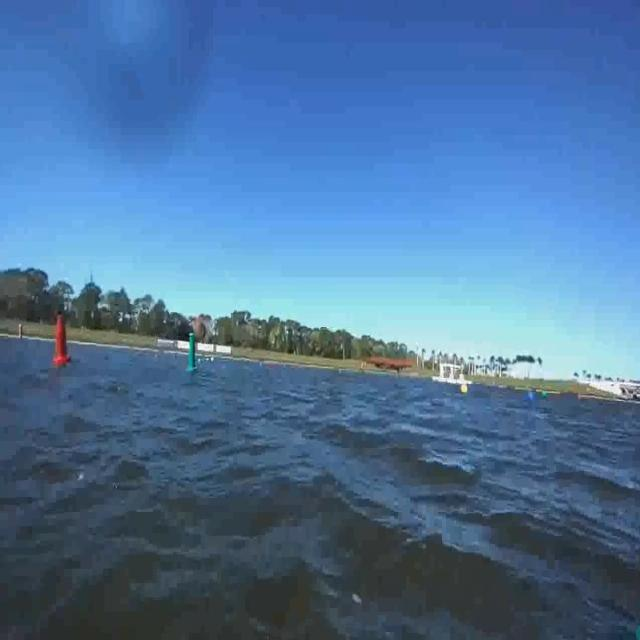green-column-buoy: (186, 326, 202, 374)
red-column-buoy: (52, 302, 72, 373)
